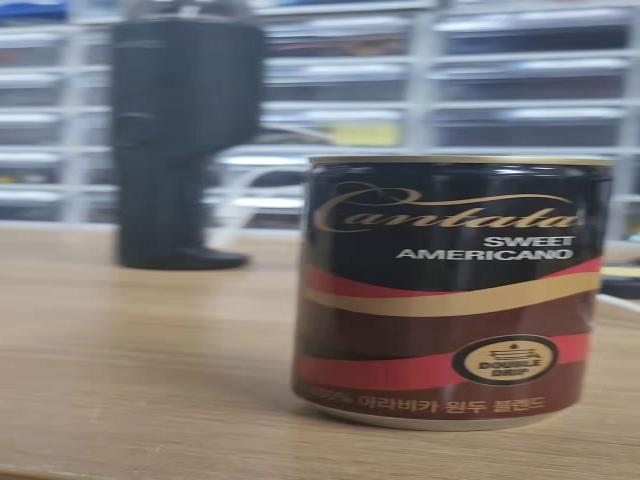Canned_drinks: (296, 149, 608, 433)
